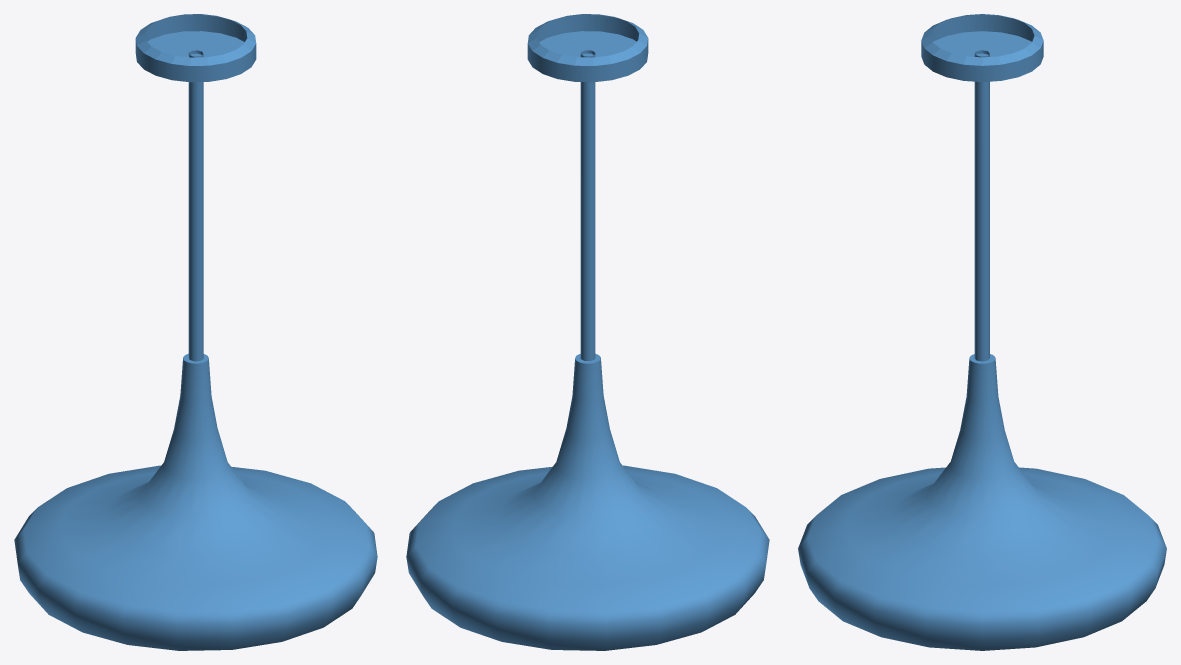
File: deskLamp.fbx
3 renders of one model, left to right at view 1: azimuth 30°, elevation 25°; view 2: azimuth 150°, elevation 25°; view 3: azimuth 270°, elevation 25°, orthographic.
Visible parts, largest first — view 1: Light_Desk; view 2: Light_Desk; view 3: Light_Desk.
Boxes of the visible parts, left/top/right/bottom form: Light_Desk: left=14, top=14, right=377, bottom=650; Light_Desk: left=406, top=14, right=769, bottom=650; Light_Desk: left=798, top=14, right=1166, bottom=650.
Bounding box in the file's own units: 14.72 × 24.24 × 14.92.
